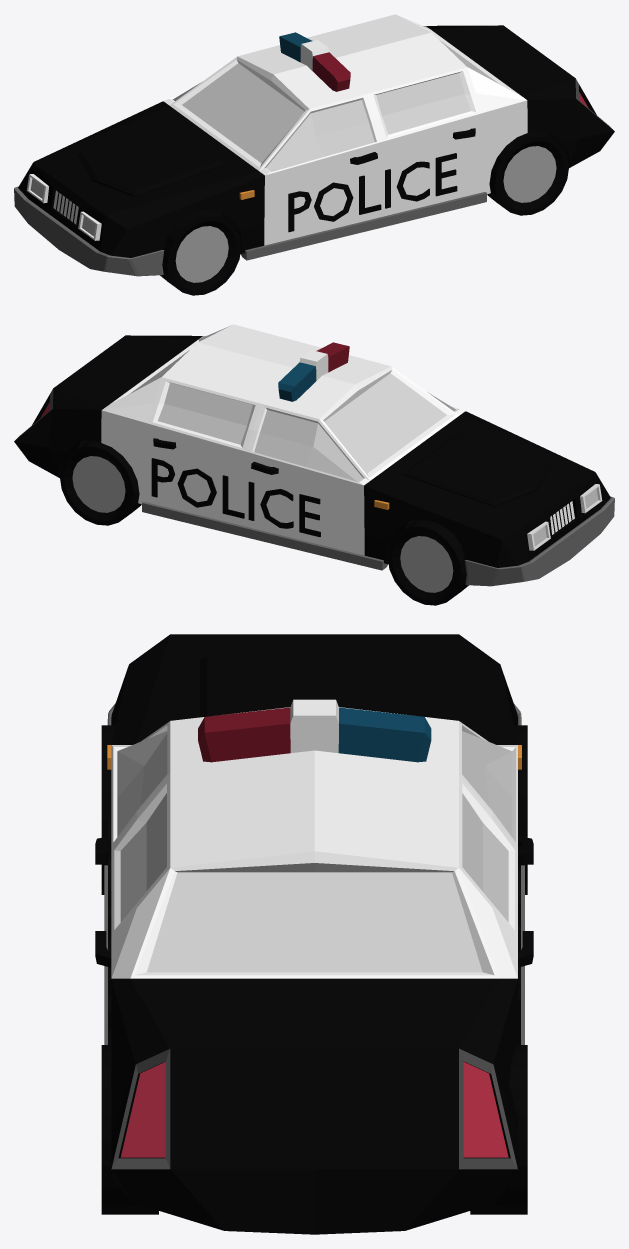
File: PoliceCar.fbx
3 views of the same model, one above another, from view 1: azimuth 30°, elevation 25°; view 2: azimuth 150°, elevation 25°; view 3: azimuth 270°, elevation 25° (orthographic). The views are drawn at different scales.
Visible parts, largest first — view 1: Cube, Cube.002, Cube.003, Cylinder, Cube.008, Cube.005, Text, Cube.009, Cube.007, Cube.001, Plane, Cube.004; view 2: Cube, Cube.002, Cube.003, Cylinder, Cube.008, Cube.005, Text.001, Cube.009, Cube.007, Cube.001, Plane, Cube.004; view 3: Cube, Cube.008, Cube.003, Cube.007, Cube.002, Cylinder, Cube.004, Cube.009, Text.
Part boxes in pixels (<box>): Cube: <box>18,14,614,257</box>; Cube.002: <box>163,82,382,245</box>; Cube.003: <box>367,67,482,216</box>; Cylinder: <box>160,130,568,295</box>; Cube.008: <box>77,121,225,196</box>; Cube.005: <box>14,186,164,276</box>; Text: <box>288,153,457,232</box>; Cube.009: <box>241,192,486,260</box>; Cube.007: <box>279,32,350,91</box>; Cube.001: <box>26,174,101,240</box>; Plane: <box>53,190,78,224</box>; Cube.004: <box>350,128,475,164</box>; Cube: <box>14,324,610,567</box>; Cube.002: <box>246,392,465,555</box>; Cube.003: <box>146,377,261,526</box>; Cylinder: <box>60,440,468,605</box>; Cube.008: <box>403,431,551,506</box>; Cube.005: <box>464,496,614,586</box>; Text.001: <box>151,458,320,537</box>; Cube.009: <box>142,502,387,570</box>; Cube.007: <box>278,342,349,401</box>; Cube.001: <box>527,484,602,550</box>; Plane: <box>550,501,574,534</box>; Cube.004: <box>153,438,278,474</box>; Cube: <box>111,634,517,1234</box>; Cube.008: <box>200,644,429,717</box>; Cube.003: <box>111,775,517,937</box>; Cube.007: <box>198,699,431,762</box>; Cube.002: <box>111,721,517,848</box>; Cylinder: <box>101,725,527,1214</box>; Cube.004: <box>95,836,533,967</box>; Cube.009: <box>104,865,524,1044</box>; Text: <box>108,815,111,1044</box>.
Bounding box in the file's own units: 297 × 95.05 × 111.
1 material, 1 textured.
